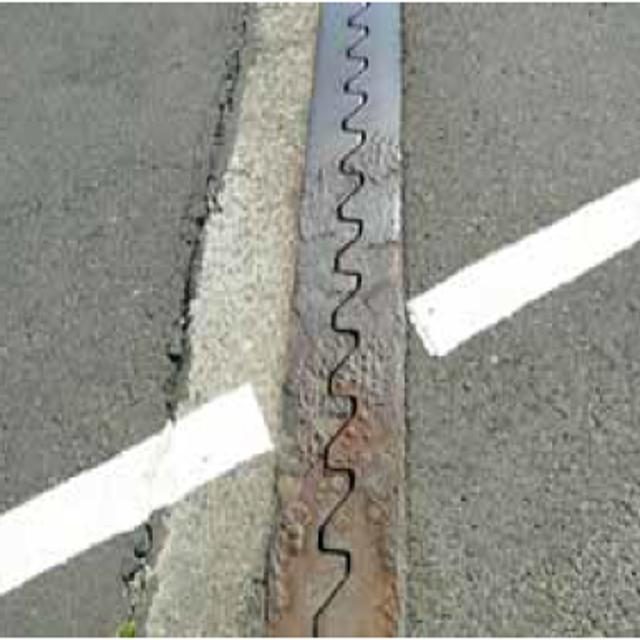corrosion: (293, 3, 404, 638)
